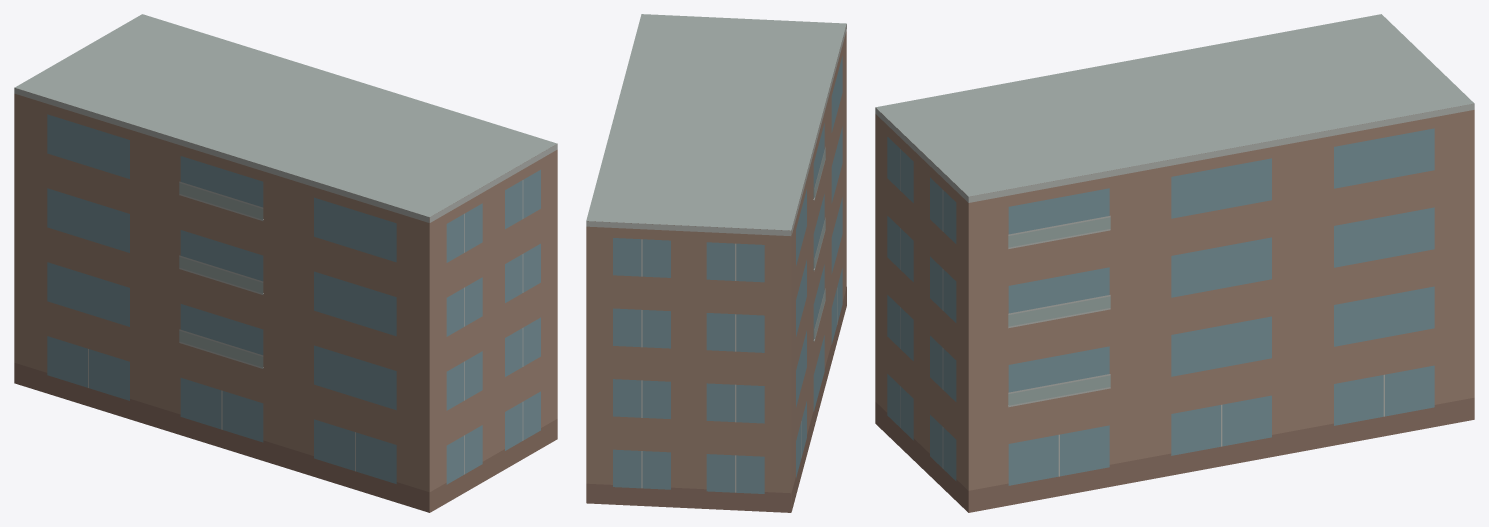
File: survey-upis-32809140.glb
The picture shows the model from 3 angles, left to right: view 1: azimuth 30°, elevation 25°; view 2: azimuth 150°, elevation 25°; view 3: azimuth 270°, elevation 25°; orthographic projection. The views are drawn at different scales.
Parts seen in each view (by area): view 1: survey-upis-32809140.tmp; view 2: survey-upis-32809140.tmp; view 3: survey-upis-32809140.tmp.
Boxes of the visible parts, bbox=[...] form: survey-upis-32809140.tmp: bbox=[14, 14, 557, 512]; survey-upis-32809140.tmp: bbox=[586, 14, 846, 512]; survey-upis-32809140.tmp: bbox=[875, 14, 1474, 512].
Size of the model in its own units: 15.13 by 12.2 by 20.96.
